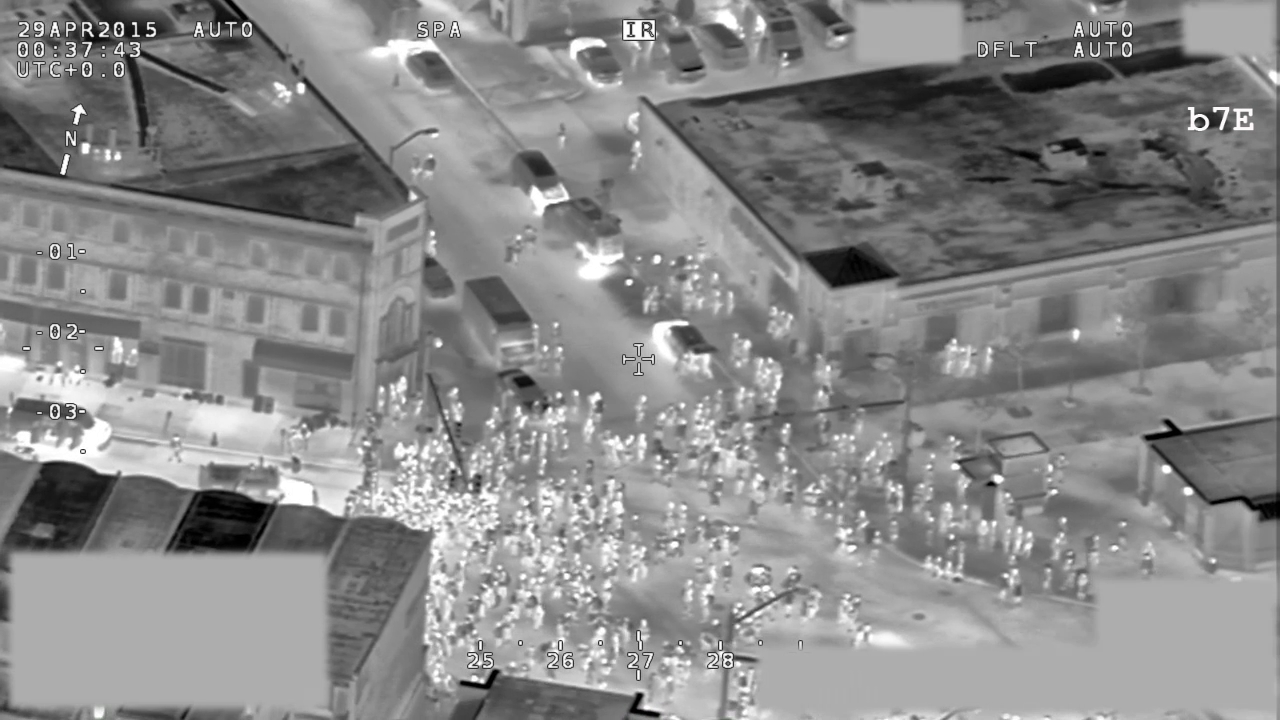vehicle: (458, 272, 543, 370), (538, 194, 634, 270), (1, 394, 119, 451), (645, 314, 724, 382), (639, 14, 711, 85), (382, 36, 463, 98), (504, 145, 572, 214), (689, 8, 750, 76), (492, 368, 560, 429), (567, 35, 629, 96)
